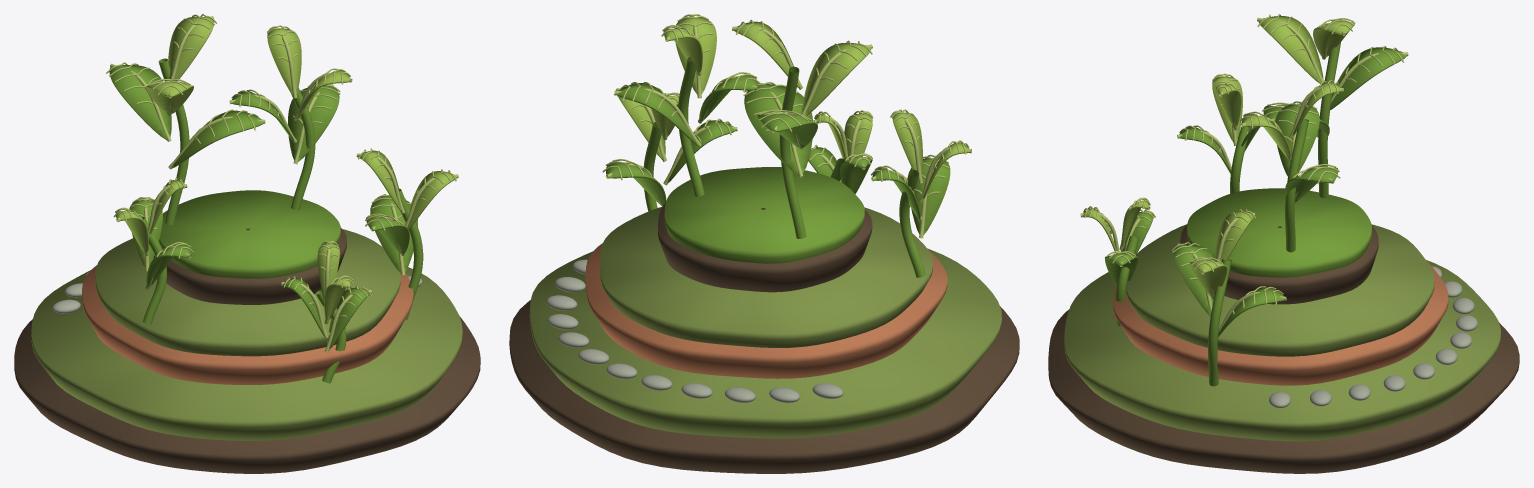
File: terraces-dd4dda6a8f7b.glb
3 renders of one model, left to right at view 1: azimuth 30°, elevation 25°; view 2: azimuth 150°, elevation 25°; view 3: azimuth 270°, elevation 25°, orthographic. The views are drawn at different scales.
Parts seen in each view (by area): view 1: Hand formed vessel.001, Hand formed vessel, Hand formed vessel.003, Hand formed vessel.005, Hand formed vessel.002, Hand formed vessel.004, Leaf blade.001, Leaf blade.004, Leaf blade.003, Leaf blade, Leaf blade.007, Stem / vein (+18 smaller); view 2: Hand formed vessel.001, Hand formed vessel.003, Hand formed vessel, Hand formed vessel.005, Hand formed vessel.002, Hand formed vessel.004, Leaf blade, Leaf blade.002, Stem / vein, Leaf blade.008, Stem / vein.045, Leaf blade.006 (+14 smaller); view 3: Hand formed vessel.001, Hand formed vessel.003, Hand formed vessel, Hand formed vessel.005, Hand formed vessel.002, Hand formed vessel.004, Leaf blade.002, Leaf blade.001, Leaf blade.005, Stem / vein.045, Stem / vein.135, Stem / vein (+12 smaller).
Boxes of the visible parts, x1=… form: Hand formed vessel.001: x1=31, y1=267, x2=462, y2=440; Hand formed vessel: x1=14, y1=315, x2=480, y2=473; Hand formed vessel.003: x1=95, y1=229, x2=400, y2=356; Hand formed vessel.005: x1=159, y1=190, x2=340, y2=278; Hand formed vessel.002: x1=82, y1=265, x2=413, y2=385; Hand formed vessel.004: x1=154, y1=227, x2=346, y2=304; Leaf blade.001: x1=109, y1=64, x2=171, y2=140; Leaf blade.004: x1=288, y1=85, x2=339, y2=161; Leaf blade.003: x1=168, y1=16, x2=214, y2=81; Leaf blade: x1=171, y1=110, x2=263, y2=168; Leaf blade.007: x1=267, y1=28, x2=301, y2=95; Stem / vein: x1=158, y1=58, x2=189, y2=224; Hand formed vessel.001: x1=529, y1=248, x2=1001, y2=438; Hand formed vessel.003: x1=600, y1=207, x2=932, y2=347; Hand formed vessel: x1=509, y1=300, x2=1019, y2=473; Hand formed vessel.005: x1=664, y1=167, x2=864, y2=263; Hand formed vessel.002: x1=585, y1=243, x2=947, y2=378; Hand formed vessel.004: x1=657, y1=203, x2=872, y2=292; Leaf blade: x1=744, y1=83, x2=812, y2=176; Leaf blade.002: x1=801, y1=42, x2=871, y2=116; Stem / vein: x1=779, y1=66, x2=806, y2=238; Leaf blade.008: x1=910, y1=157, x2=950, y2=238; Stem / vein.045: x1=678, y1=56, x2=704, y2=196; Leaf blade.006: x1=674, y1=16, x2=716, y2=94; Hand formed vessel.001: x1=1064, y1=260, x2=1500, y2=441; Hand formed vessel.003: x1=1126, y1=224, x2=1434, y2=356; Hand formed vessel: x1=1048, y1=310, x2=1519, y2=473; Hand formed vessel.005: x1=1187, y1=188, x2=1371, y2=277; Hand formed vessel.002: x1=1113, y1=260, x2=1448, y2=385; Hand formed vessel.004: x1=1180, y1=225, x2=1378, y2=304; Leaf blade.002: x1=1258, y1=16, x2=1323, y2=83; Leaf blade.001: x1=1330, y1=47, x2=1406, y2=110; Leaf blade.005: x1=1275, y1=103, x2=1319, y2=176; Stem / vein.045: x1=1285, y1=118, x2=1308, y2=252; Stem / vein.135: x1=1208, y1=259, x2=1231, y2=386; Stem / vein: x1=1318, y1=42, x2=1340, y2=197.
Size of the model in its own units: 2.15 by 1.76 by 2.14.
